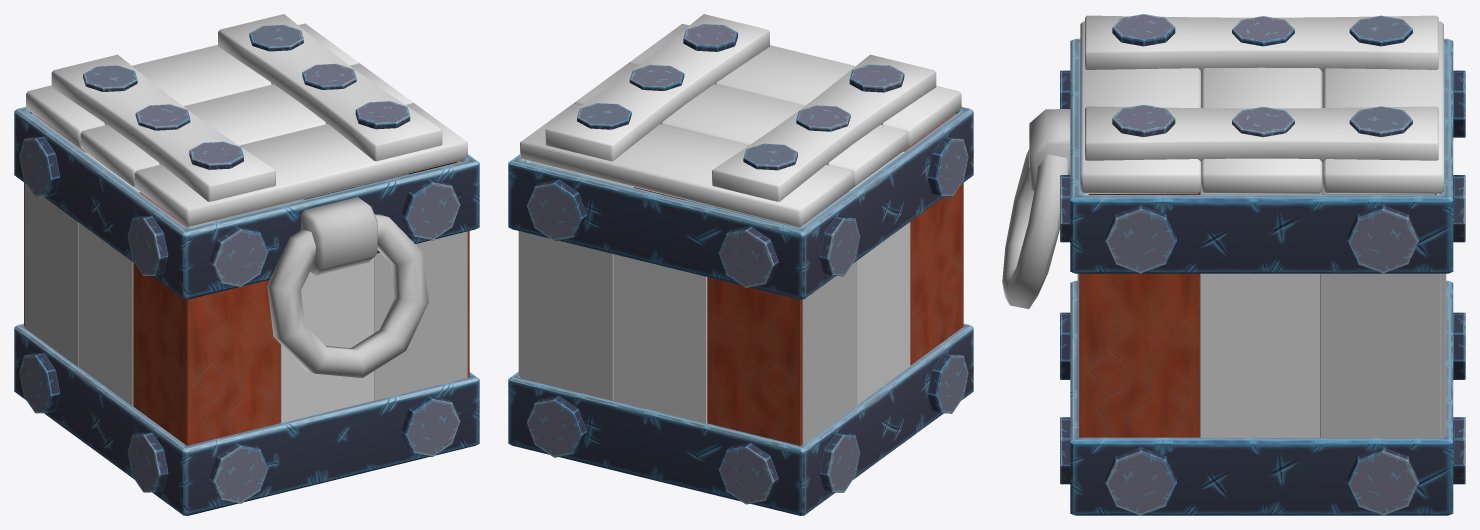
File: crate.fbx
3 views of the same model, side by side, from view 1: azimuth 30°, elevation 25°; view 2: azimuth 150°, elevation 25°; view 3: azimuth 270°, elevation 25° (orthographic). The views are drawn at different scales.
Visible parts, largest first — view 1: plank_top.005, Cube.001, Cube.019, Cube, doors, Plane.018, nail.002, Plane.002, Plane.001, Plane.003, Plane.004, Plane.005 (+2 smaller); view 2: plank_top.005, Cube, Cube.001, Cube.019, Plane.018, Plane.001, Plane.002, nail.002, Plane.005, Plane.004, Plane.003, nail.003 (+1 smaller); view 3: Cube.019, plank_top.005, Cube, Cube.001, Plane.005, Plane.004, Plane.003, nail.003, nail.001, doors, nail.002, Plane.002.
Boxes of the visible parts, <box> form: plank_top.005: <box>26,23,467,226</box>; Cube.001: <box>14,323,479,515</box>; Cube.019: <box>51,14,442,201</box>; Cube: <box>14,107,479,299</box>; doors: <box>267,197,428,377</box>; Plane.018: <box>24,113,280,445</box>; nail.002: <box>209,179,460,503</box>; Plane.002: <box>214,199,467,400</box>; Plane.001: <box>127,182,374,423</box>; Plane.003: <box>133,160,469,445</box>; Plane.004: <box>79,152,408,406</box>; Plane.005: <box>24,113,354,367</box>; plank_top.005: <box>520,23,961,227</box>; Cube: <box>508,107,973,299</box>; Cube.001: <box>508,323,973,515</box>; Cube.019: <box>545,14,936,201</box>; Plane.018: <box>707,152,901,445</box>; Plane.001: <box>613,182,860,423</box>; Plane.002: <box>520,199,772,400</box>; nail.002: <box>526,179,778,504</box>; Plane.005: <box>518,161,857,444</box>; Plane.004: <box>579,151,910,404</box>; Plane.003: <box>634,113,963,365</box>; nail.003: <box>819,136,968,492</box>; Cube.019: <box>1085,15,1438,163</box>; plank_top.005: <box>1080,21,1443,193</box>; Cube: <box>1070,38,1453,273</box>; Cube.001: <box>1070,280,1453,515</box>; Plane.005: <box>1320,72,1440,438</box>; Plane.004: <box>1200,73,1320,437</box>; Plane.003: <box>1079,192,1200,437</box>; nail.003: <box>1105,205,1418,515</box>; nail.001: <box>1112,14,1412,137</box>; doors: <box>1002,109,1070,308</box>; nail.002: <box>1060,70,1465,484</box>; Plane.002: <box>1077,194,1446,436</box>.
Size of the model in its own units: 234 by 232 by 267.
